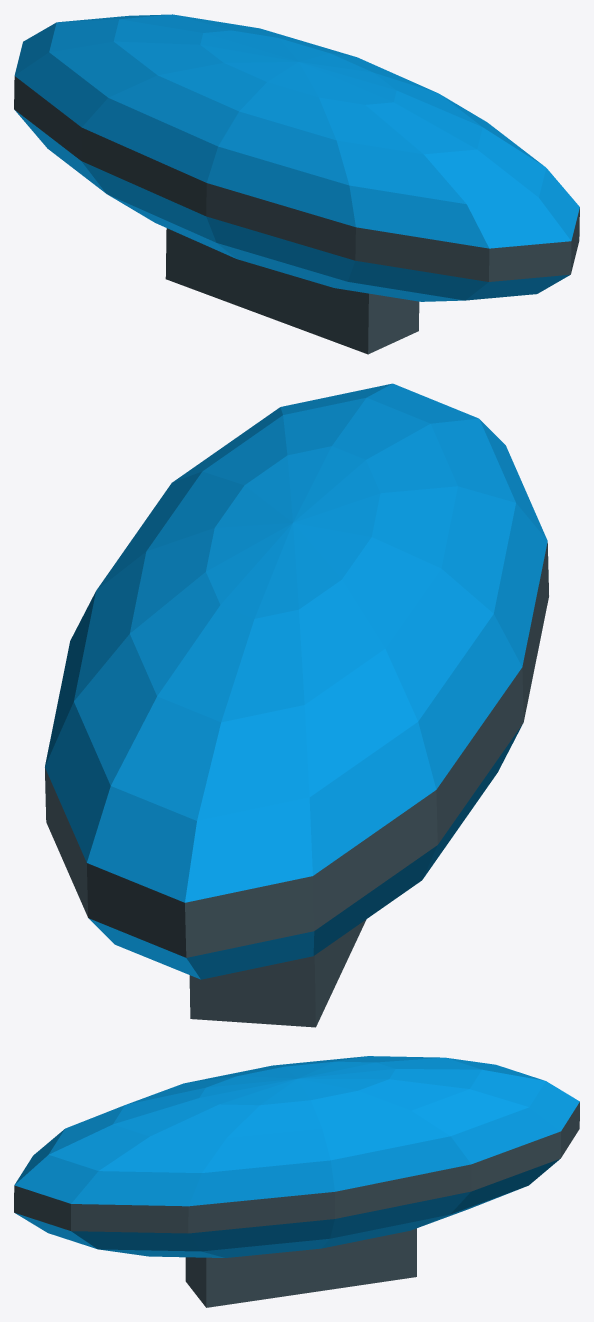
The picture shows the model from 3 angles, top to bottom: view 1: azimuth 30°, elevation 25°; view 2: azimuth 150°, elevation 25°; view 3: azimuth 270°, elevation 25°; orthographic projection. The views are drawn at different scales.
Visible parts, largest first — view 1: mesh_1042748762, mesh_809057763; view 2: mesh_1042748762, mesh_809057763; view 3: mesh_1042748762, mesh_809057763.
Boxes of the visible parts, x1,y1,x2,y2 form: mesh_1042748762: (14,14,579,301); mesh_809057763: (165,228,419,354); mesh_1042748762: (45,383,548,979); mesh_809057763: (189,919,366,1027); mesh_1042748762: (14,1056,579,1257); mesh_809057763: (185,1228,416,1307).
Size of the model in its own units: 35.97 by 27.98 by 70.75.
